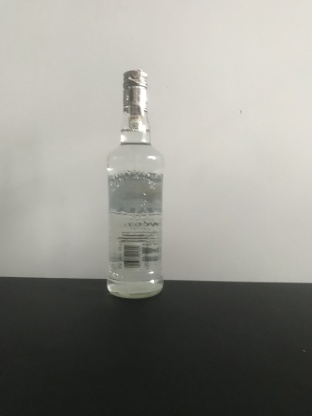nakretka: (121, 67, 149, 113)
